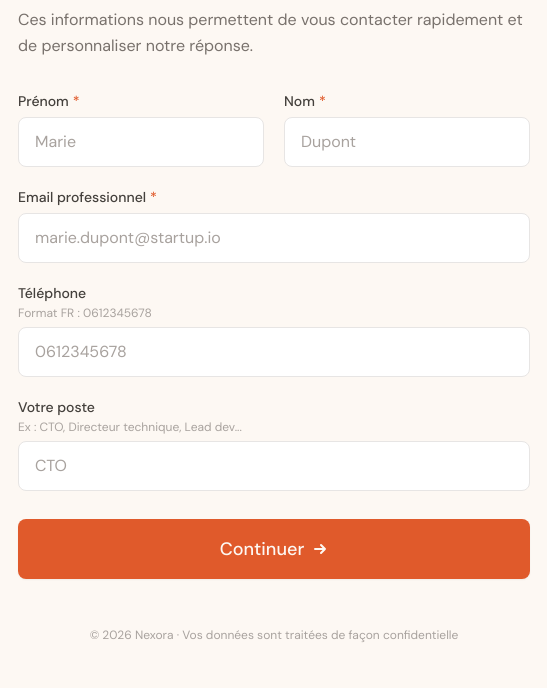
Scenario: Nexora Onboarding — parcours complet › Étape 1 — Contact › affiche les erreurs si le formulaire est soumis vide
(page scrolled)
Click the button with test id "btn-next-contact" at (274, 549), box [18,519,530,579]
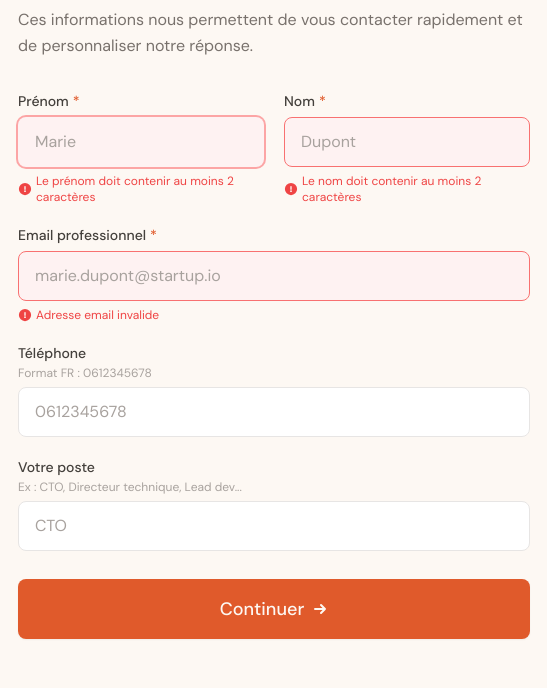
Expected: the text "Le prénom doit contenir au moins 2 caractères" is shown, [18,173,264,205]
Expected: the text "Le nom doit contenir au moins 2 caractères" is shown, [284,173,481,205]
Expected: the text "Adresse email invalide" is shown, [18,307,159,323]
